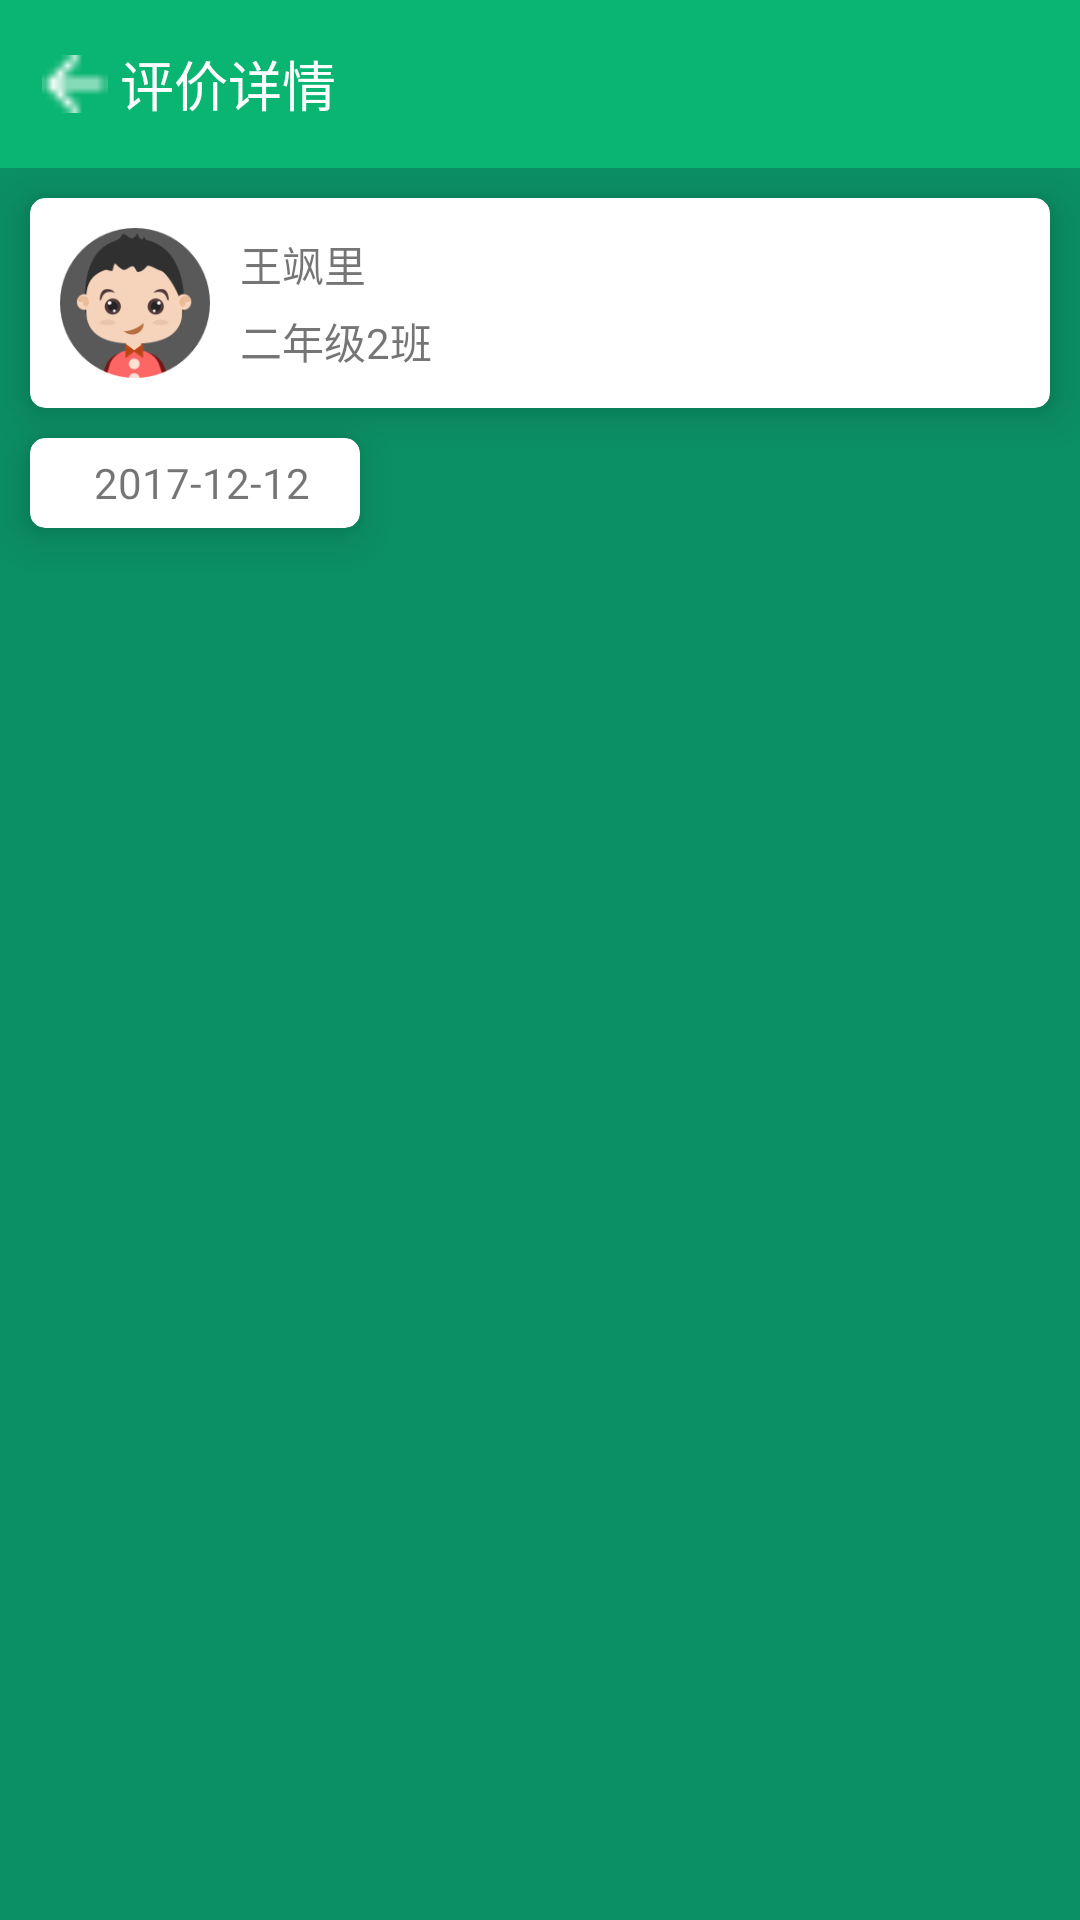

Icon bounding boxes for this 1080w x 1920h phone screenshot, format (x1, y1, x2, y2):
back: (42, 55, 108, 113)
user head: (60, 228, 210, 378)
